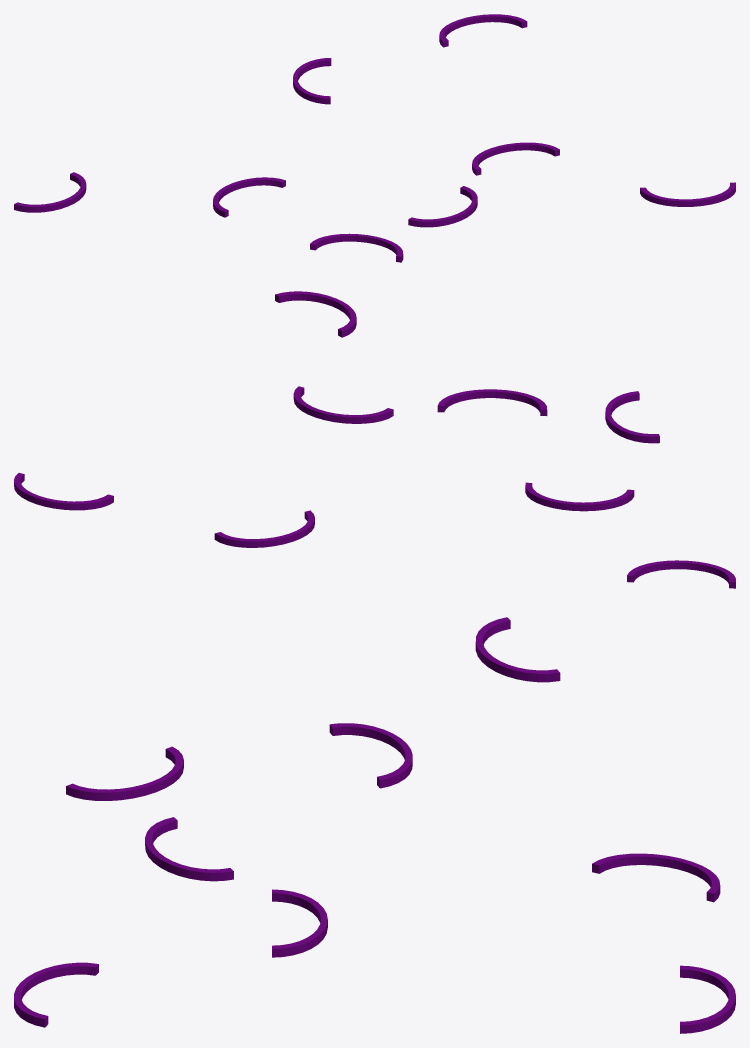
File: onion layer.fbx
3 renders of one model, top to bottom at view 1: azimuth 30°, elevation 25°; view 2: azimuth 150°, elevation 25°; view 3: azimuth 270°, elevation 25°, orthographic. The views are drawn at different scales.
Visible parts, largest first — view 1: onion layer; view 2: onion layer; view 3: onion layer.
Boxes of the visible parts, x1,y1,x2,y2 form: onion layer: [14, 14, 735, 262]; onion layer: [14, 291, 735, 588]; onion layer: [14, 617, 735, 1033].
Bounding box in the file's own units: 1808 × 17.28 × 1351.
